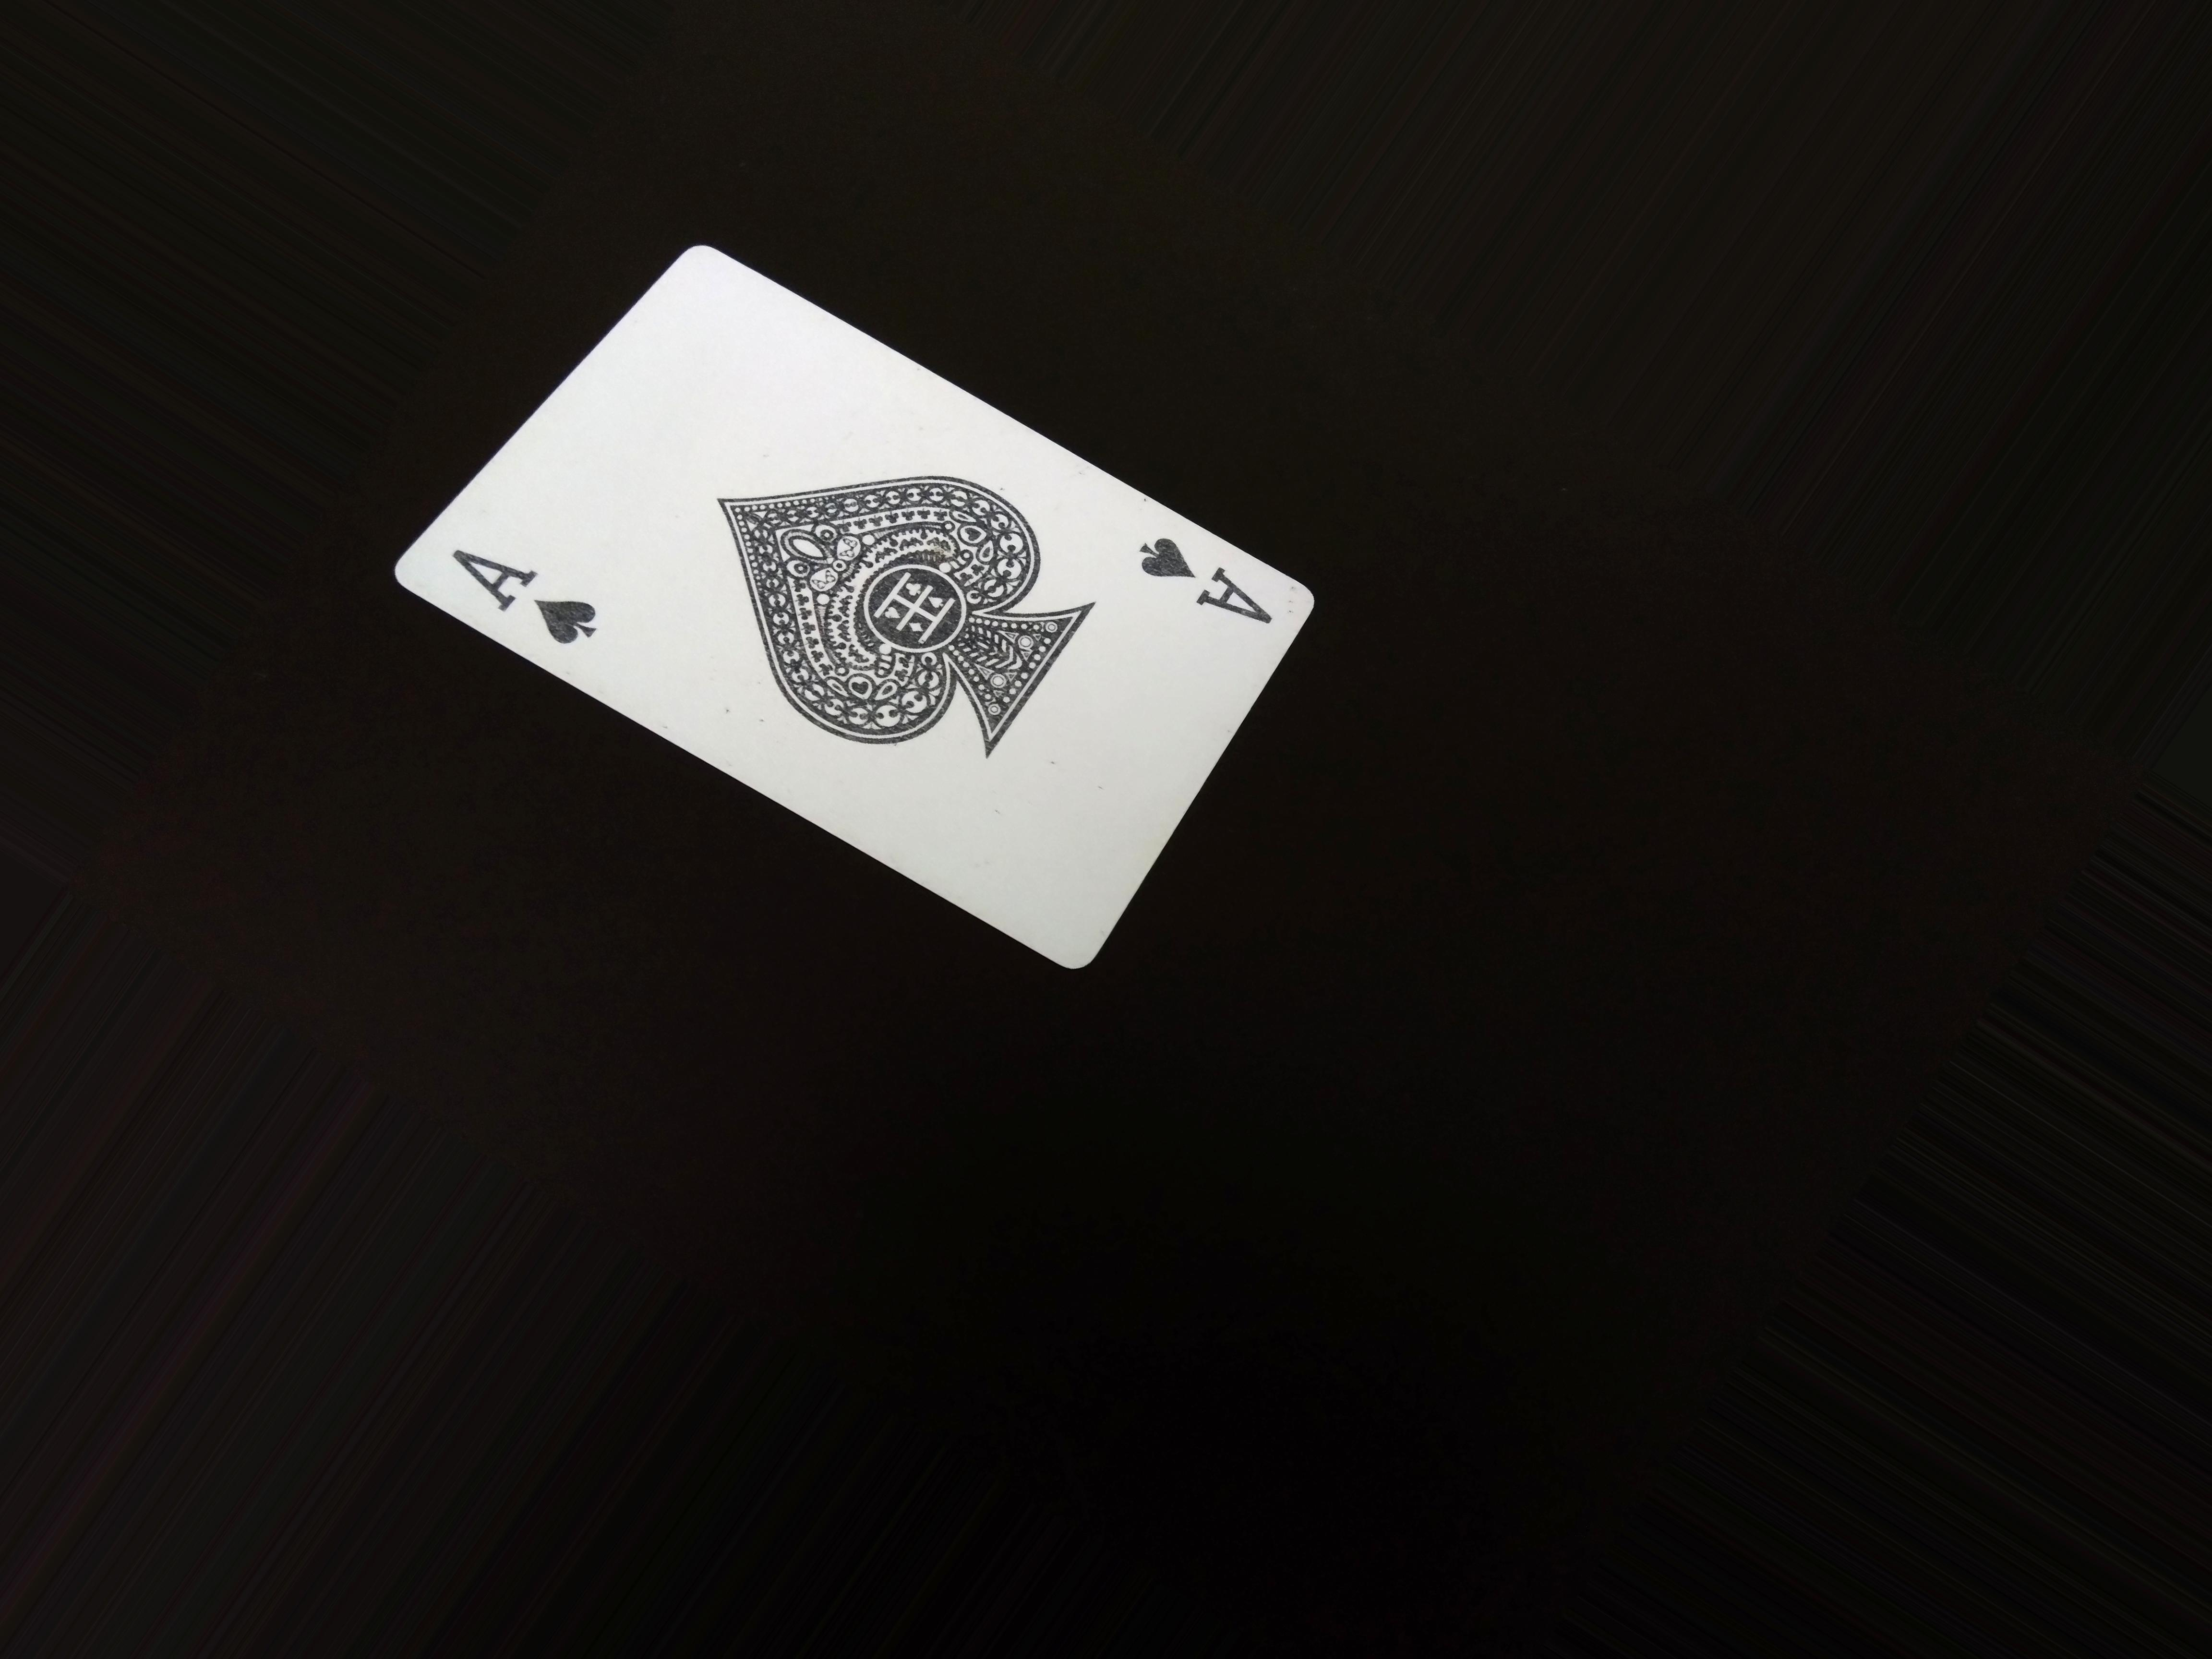AS: (1125, 526, 1275, 657)
